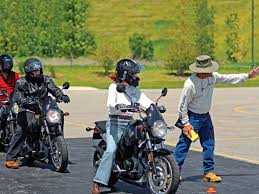helmet: (114, 59, 141, 86), (24, 57, 43, 82)
